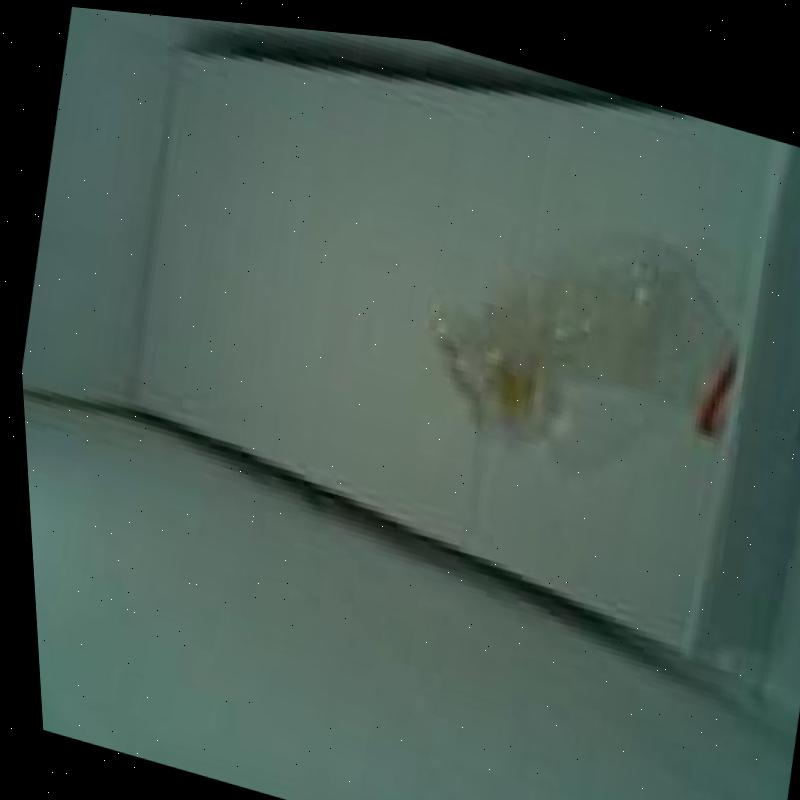botella: (401, 166, 760, 491)
